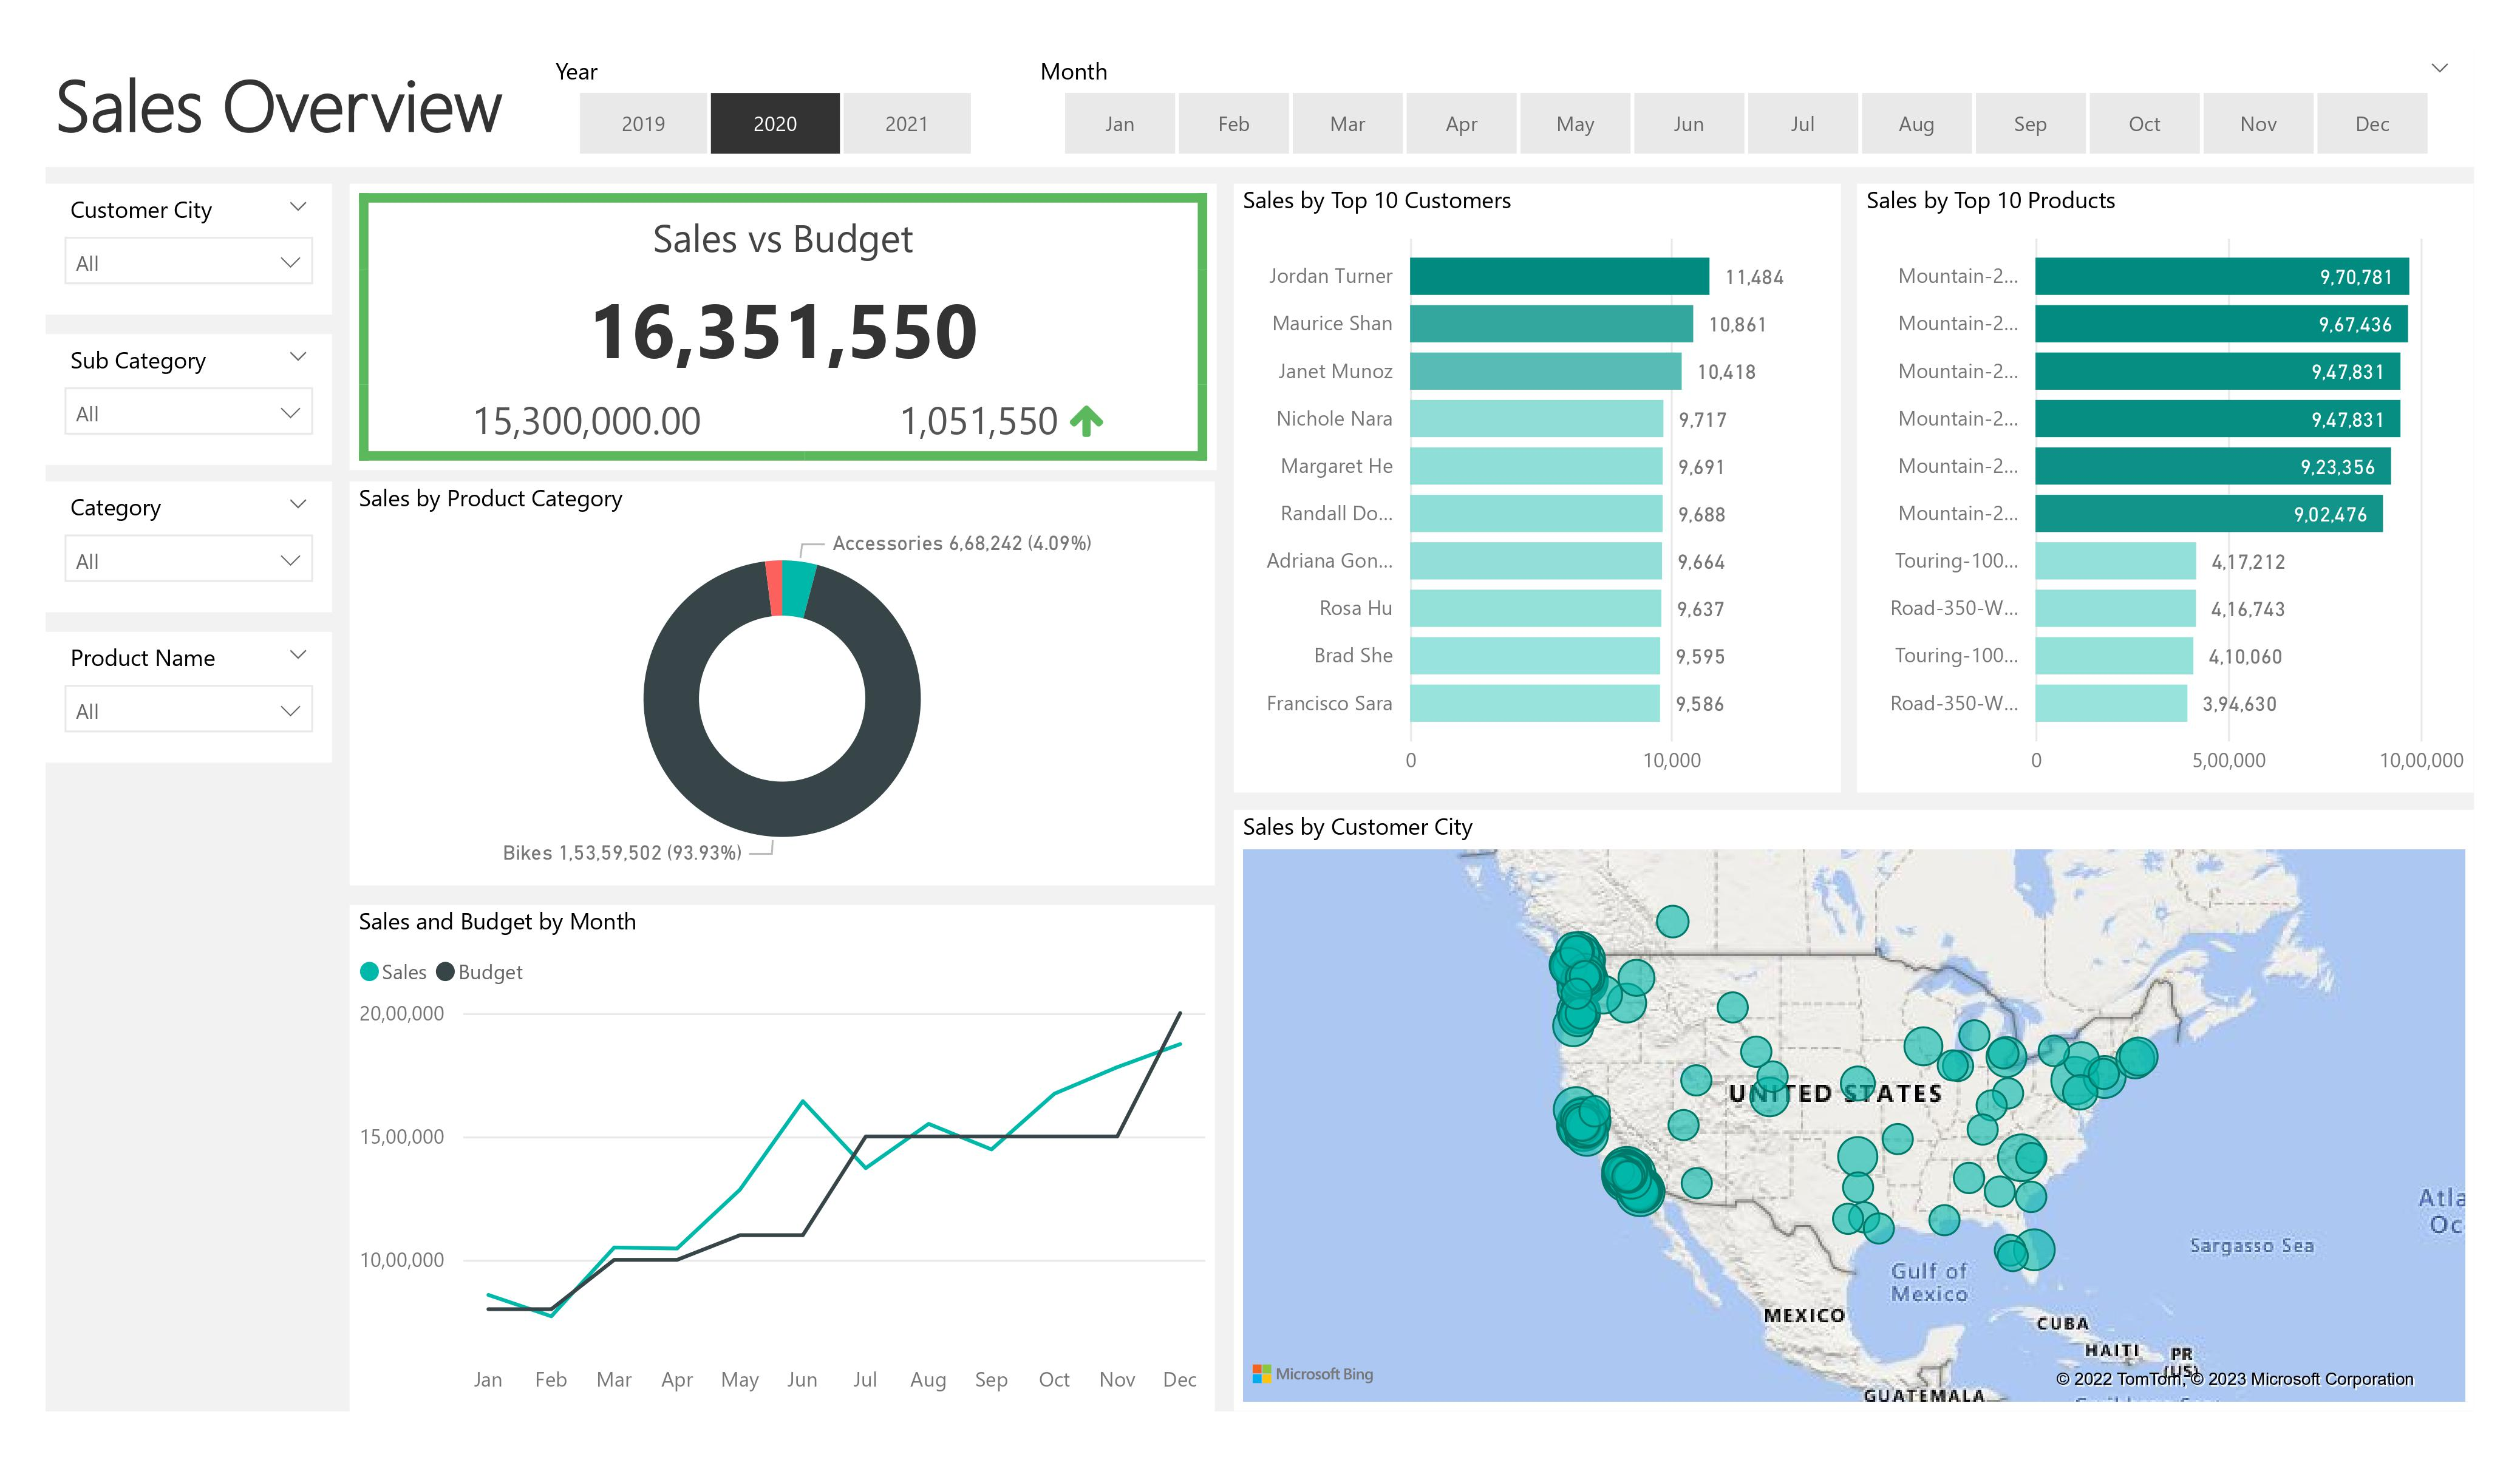

This screenshot's page, from the dashboard's own definition file:
{"tool":"powerbi","page":{"name":"Sales Overview","canvas":[1280,720],"ordinal":0},"visuals":[{"type":"textbox","box":[0,0,1280,64],"z":0},{"type":"slicer","fields":{"Values":["DIM_Calendar.Year"]},"box":[256,0,256,64],"z":1000},{"type":"slicer","fields":{"Values":["DIM_Calendar.MonthShort"]},"box":[512,0,768,64],"z":2000},{"type":"slicer","fields":{"Values":["DIM_Customers.Customer City"]},"box":[0,73,150.5,69.3],"z":3000},{"type":"slicer","fields":{"Values":["DIM_Products.Product Category"]},"box":[0,229.9,150.5,69.3],"z":4000},{"type":"slicer","fields":{"Values":["DIM_Products.Product Name"]},"box":[0,308.4,150.5,69.3],"z":5000},{"type":"slicer","fields":{"Values":["DIM_Products.Sub Category"]},"box":[0,151.4,150.5,69.3],"z":6000},{"type":"barChart","title":"Sales by Top 10 Products","fields":{"Category":["DIM_Products.Product Name"],"Y":["Analysis Metrics.Sales"]},"box":[955.2,73,324.8,321.1],"z":7000},{"type":"lineChart","fields":{"Category":["DIM_Calendar.MonthShort"],"Y":["Analysis Metrics.Sales","Analysis Metrics.Budget"]},"box":[160.7,452.8,456.3,267.2],"z":8000},{"type":"barChart","title":"Sales by Top 10 Customers","fields":{"Category":["DIM_Customers.Full Name"],"Y":["Analysis Metrics.Sales"]},"box":[625.9,73,320.2,321.1],"z":9000},{"type":"donutChart","fields":{"Y":["Analysis Metrics.Sales"],"Series":["DIM_Products.Product Category"]},"box":[160.6,229.9,456.2,213.5],"z":10000},{"type":"map","fields":{"Category":["DIM_Customers.Customer City"],"Size":["Analysis Metrics.Sales"]},"box":[625.9,403.3,654.1,316.6],"z":12000},{"type":"BBED0A4D4D8D44CE93CF2DAFADEE466C","fields":{"actual":["Analysis Metrics.Sales"],"target2":["Analysis Metrics.Sales / Budget"],"target1":["Analysis Metrics.Budget"]},"box":[160.5,73.4,456.6,151.3],"z":13001}]}

Visuals, with their boxes on the page's 1280x720 design canvas (x1, y1, x2, y2). These are canvas units, not pixel positions in the 2520x1457 screenshot, which may show the page scaled, cropped or inside an application window:
textbox: 0 0 1280 64
slicer - DIM_Calendar.Year: 256 0 512 64
slicer - DIM_Calendar.MonthShort: 512 0 1280 64
slicer - DIM_Customers.Customer City: 0 73 150 142
slicer - DIM_Products.Product Category: 0 230 150 299
slicer - DIM_Products.Product Name: 0 308 150 378
slicer - DIM_Products.Sub Category: 0 151 150 221
"Sales by Top 10 Products" barChart: 955 73 1280 394
lineChart - DIM_Calendar.MonthShort x Analysis Metrics.Sales: 161 453 617 720
"Sales by Top 10 Customers" barChart: 626 73 946 394
donutChart - Analysis Metrics.Sales x DIM_Products.Product Category: 161 230 617 443
map - DIM_Customers.Customer City x Analysis Metrics.Sales: 626 403 1280 720
BBED0A4D4D8D44CE93CF2DAFADEE466C - Analysis Metrics.Sales x Analysis Metrics.Sales / Budget: 160 73 617 225
